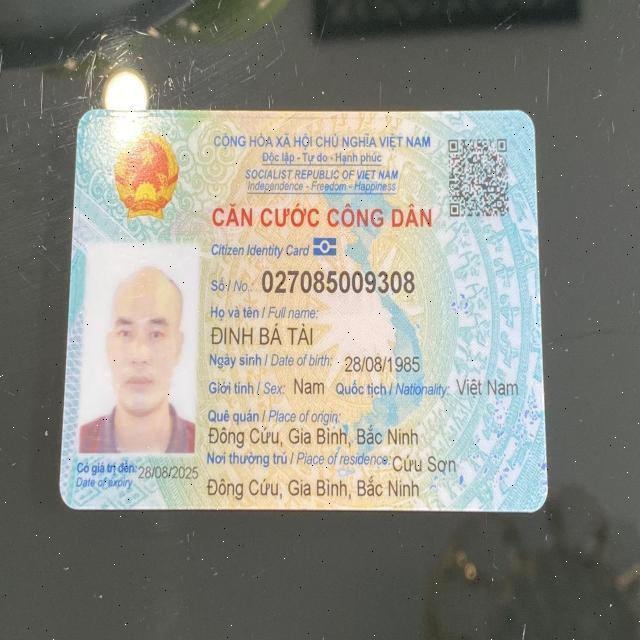current_place: (204, 474, 423, 502), (392, 450, 459, 474)
dob: (339, 352, 423, 376)
expire_date: (134, 462, 206, 484)
gender: (292, 375, 331, 402)
id: (257, 264, 422, 299)
name: (207, 322, 323, 349)
nationality: (452, 374, 522, 401)
origin_place: (205, 421, 421, 448)
qr: (446, 136, 516, 222)
